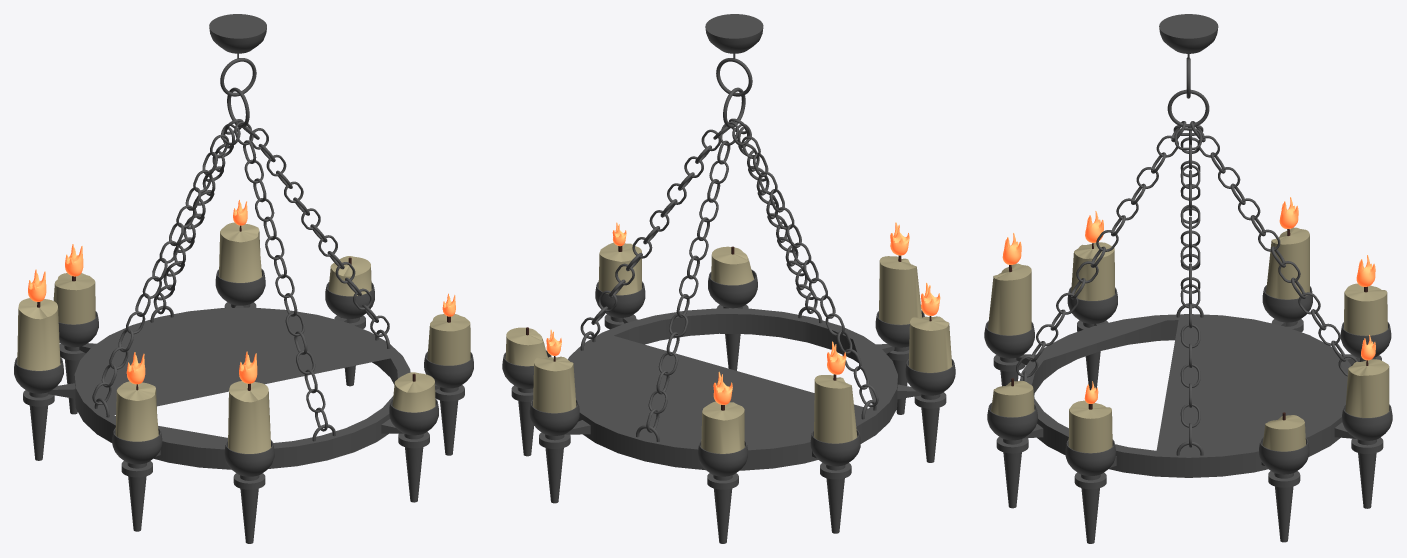
Rendered from Candelabro.fbx.
3 renders of one model, left to right at view 1: azimuth 30°, elevation 25°; view 2: azimuth 150°, elevation 25°; view 3: azimuth 270°, elevation 25°, orthographic.
Parts seen in each view (by area): view 1: Chandelier.001; view 2: Chandelier.001; view 3: Chandelier.001.
Boxes of the visible parts, bbox=[...] form: Chandelier.001: bbox=[14, 14, 473, 543]; Chandelier.001: bbox=[502, 14, 955, 543]; Chandelier.001: bbox=[984, 14, 1392, 543].
Size of the model in its own units: 243 by 283 by 240.
